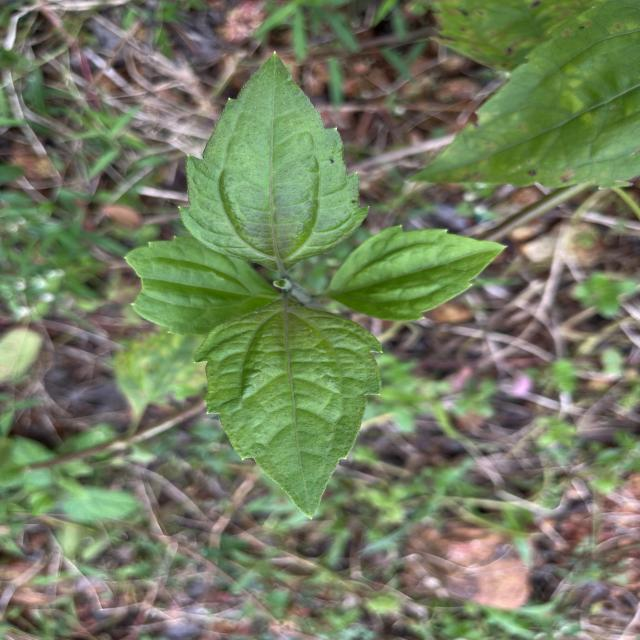Chromolaena odorata: (174, 49, 373, 278), (190, 296, 386, 522)
